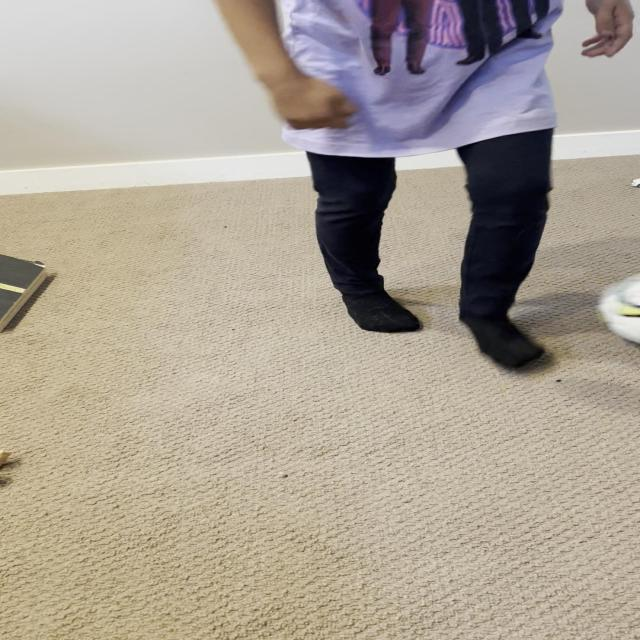Soccer Ball: (601, 267, 640, 346)
